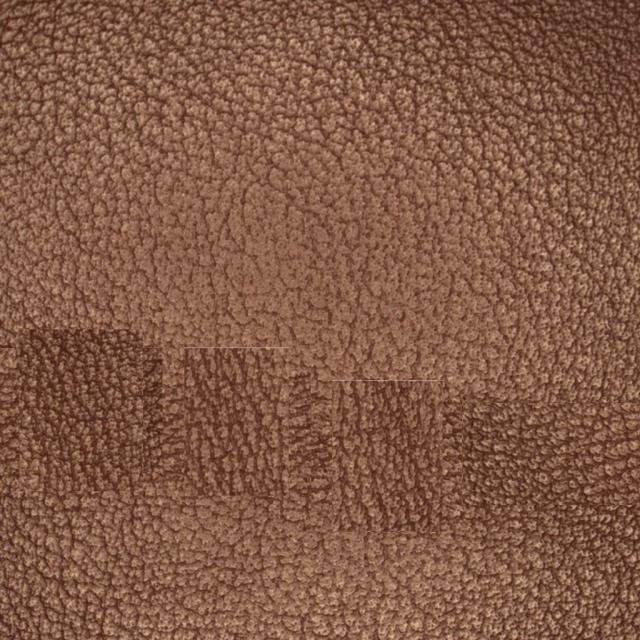Healed Injury: (335, 356, 600, 534), (25, 308, 219, 512)
